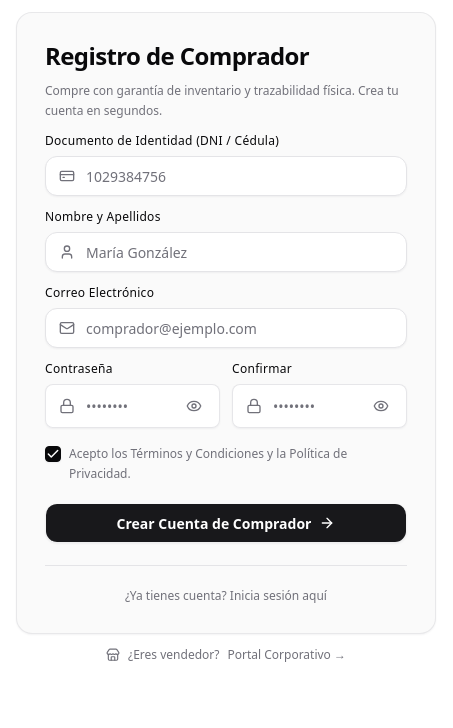
Test: Módulo de Autenticación y Salud (W4-S01-auth-module) › RegisterBuyerPage › muestra alerta si el registro falla en la API
In the field labelled "Documento de Identidad (DNI / Cédula)": (226, 176) [45,156,407,196], type "987654321"
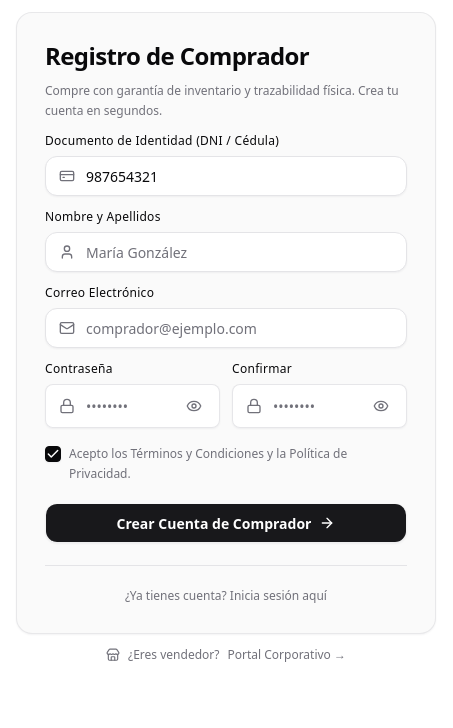
In the field labelled "Nombre y Apellidos": (226, 252) [45,232,407,272], type "Carlos Ruiz"
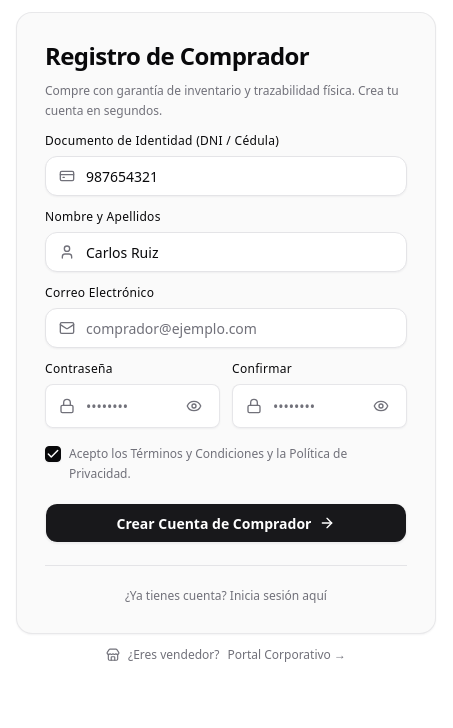
In the field labelled "Correo Electrónico": (226, 328) [45,308,407,348], type "duplicado@ejemplo.com"
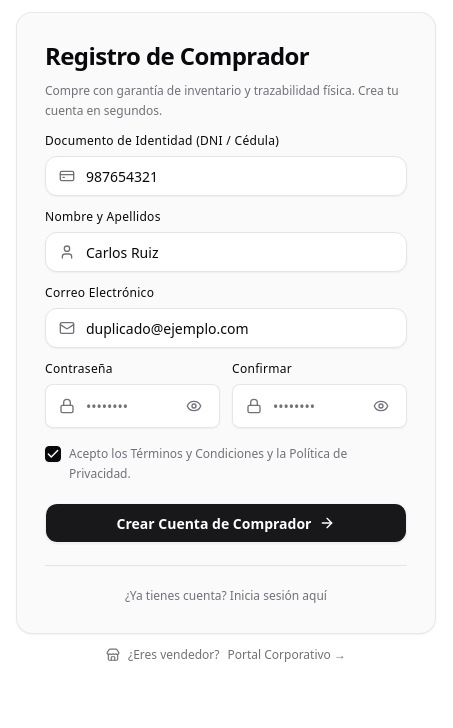
In the password field labelled "Contraseña": (132, 406) [45,384,220,428], type "ValidPassword123"
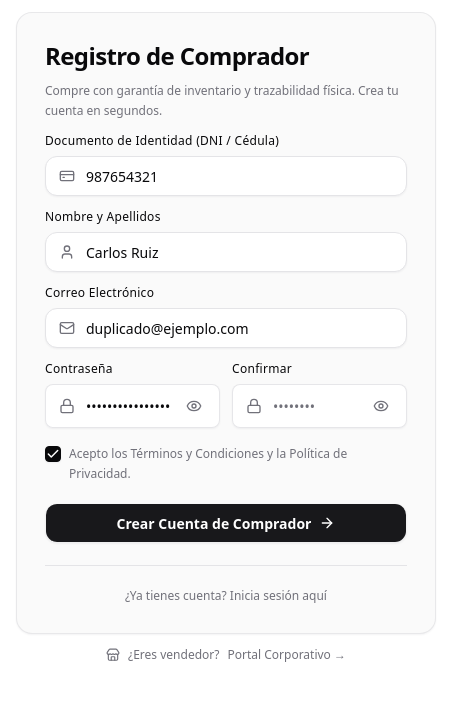
In the password field labelled "Confirmar": (320, 406) [232,384,407,428], type "ValidPassword123"
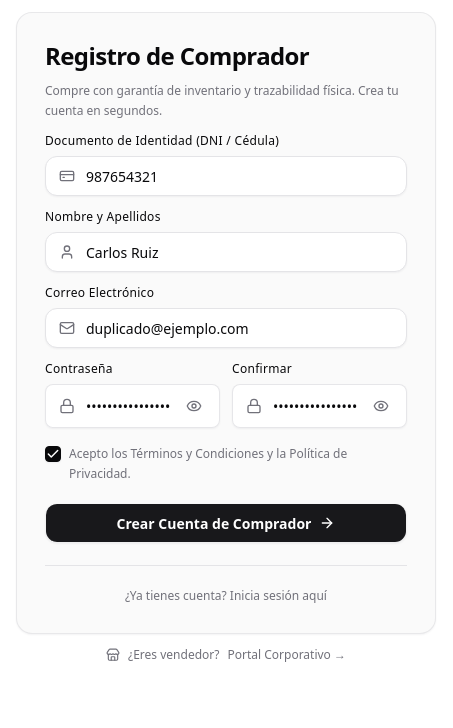
Click the button "Crear Cuenta de Comprador": (226, 523) [45,503,407,543]
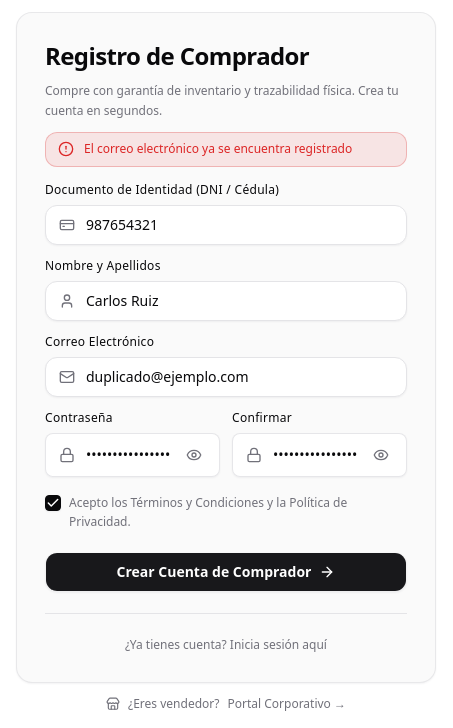
Result: the message "El correo electrónico ya se encuentra registrado" is shown at [45,132,407,166]
Result: the text "El correo electrónico ya se encuentra registrado" is shown at [84,141,352,158]
